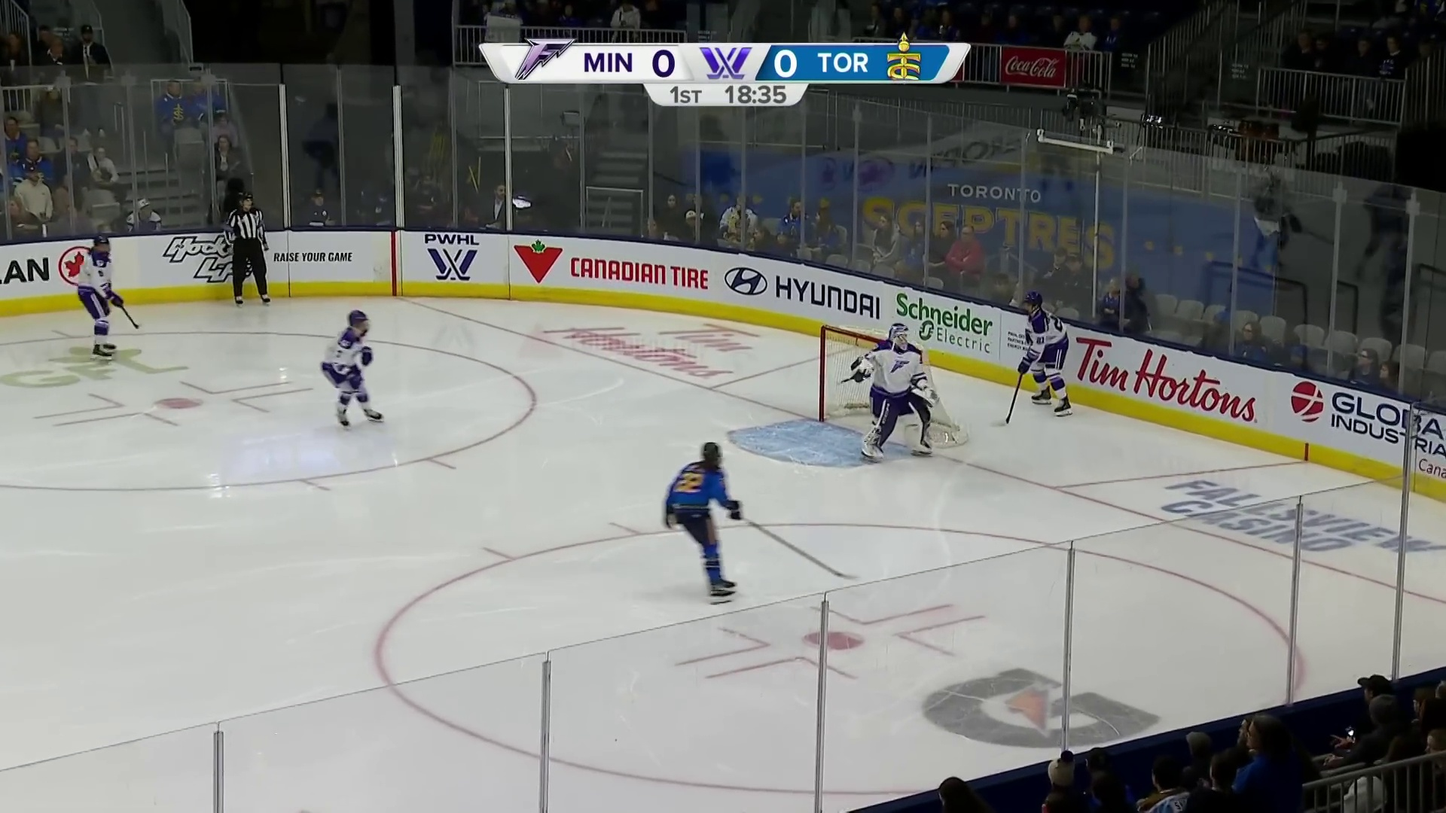goalkeeper: (850, 319, 941, 462)
player: (664, 439, 744, 601), (318, 307, 390, 431), (1016, 290, 1076, 419), (75, 233, 127, 361)
referee: (227, 193, 275, 306)
